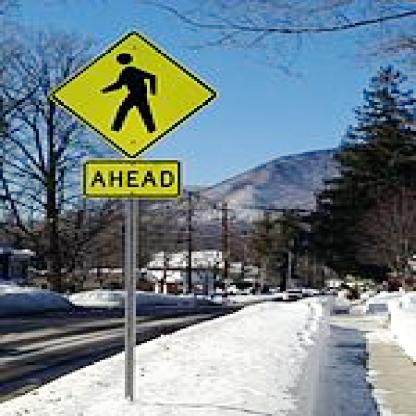Pedestrian Crossing: (22, 20, 231, 210)
